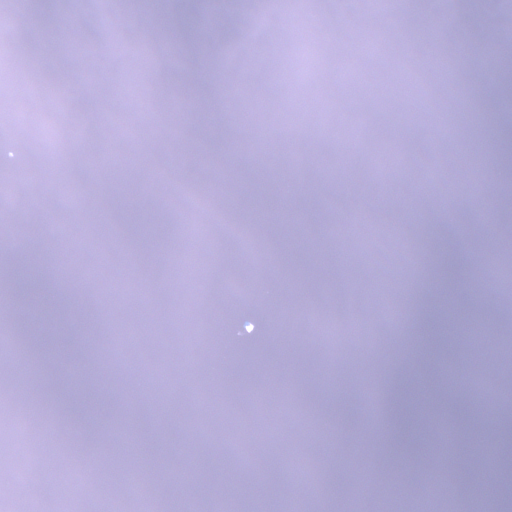Iceberg: (244, 322, 253, 332), (9, 152, 12, 155)
